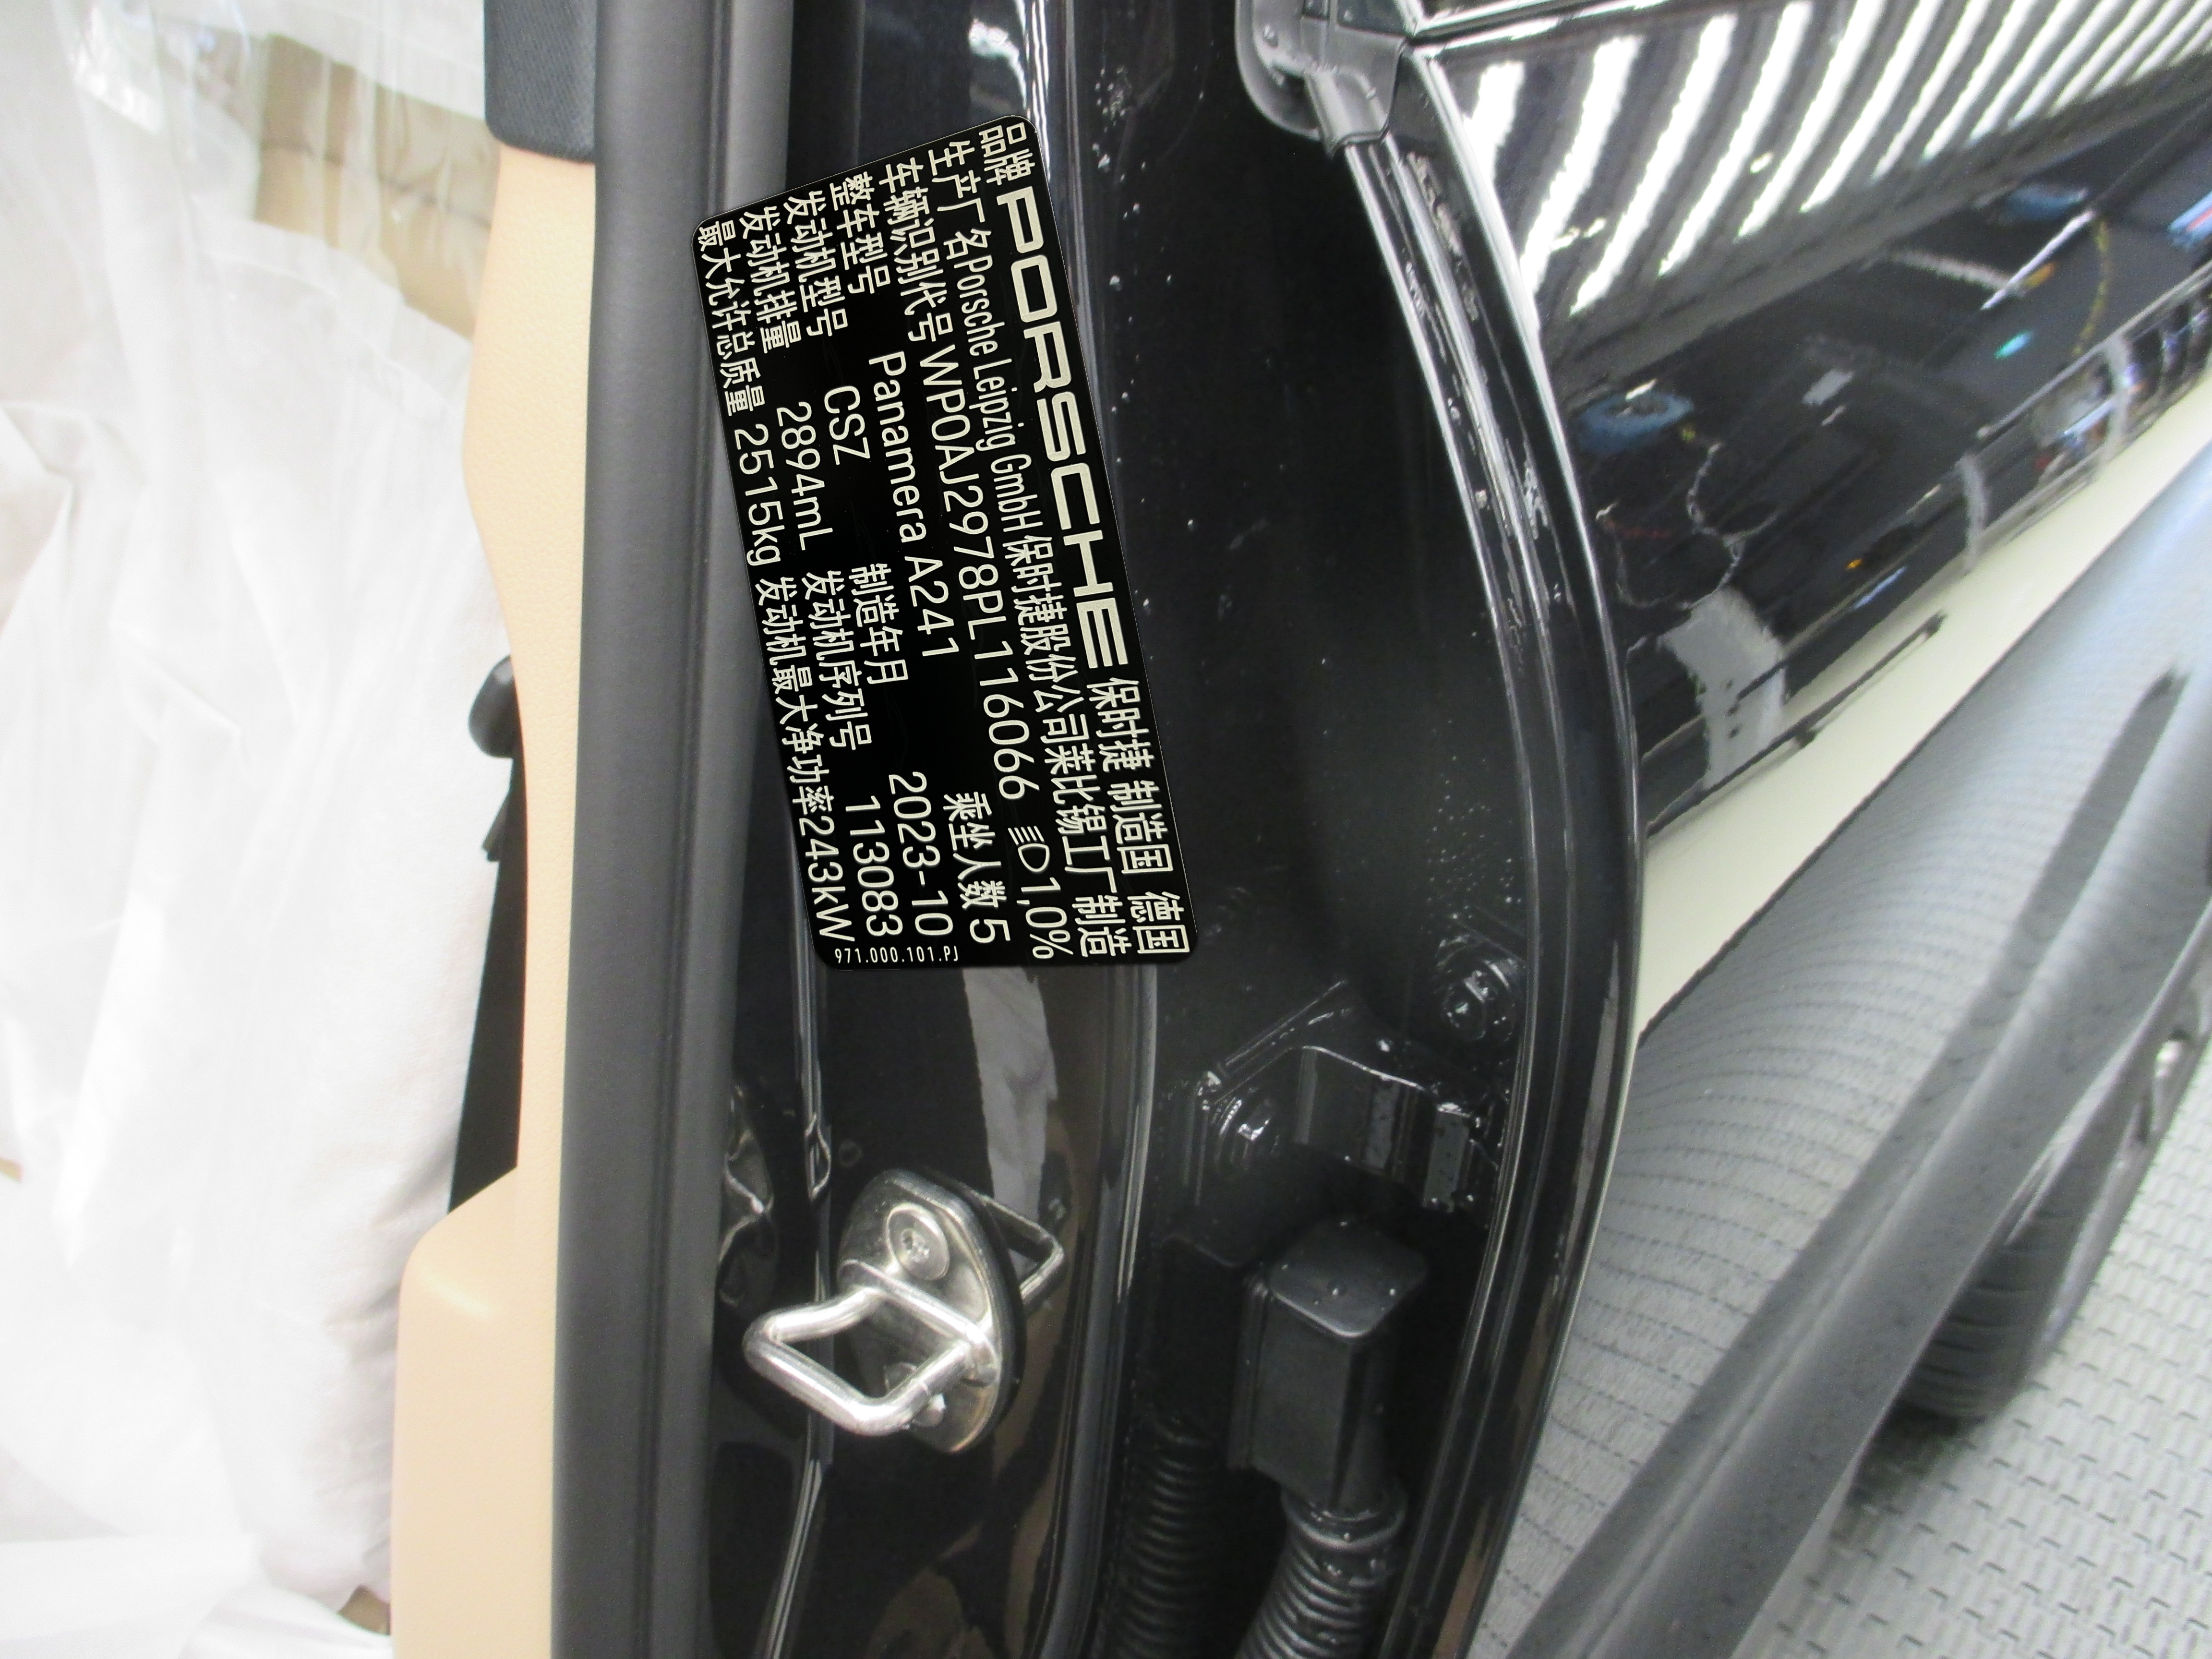Typlabel-China: (691, 115, 1197, 971)
